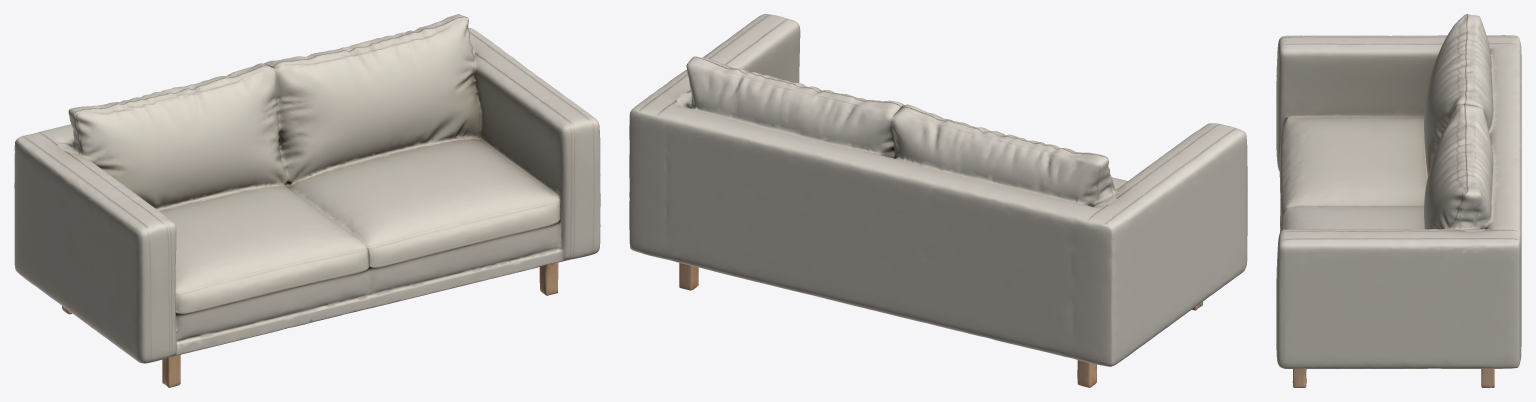
File: sofa.glb
The picture shows the model from 3 angles, left to right: view 1: azimuth 30°, elevation 25°; view 2: azimuth 150°, elevation 25°; view 3: azimuth 270°, elevation 25°; orthographic projection. The views are drawn at different scales.
Size of the model in its own units: 1.91 by 0.8319 by 0.9377.
Materials: 1 (1 with a texture image).
